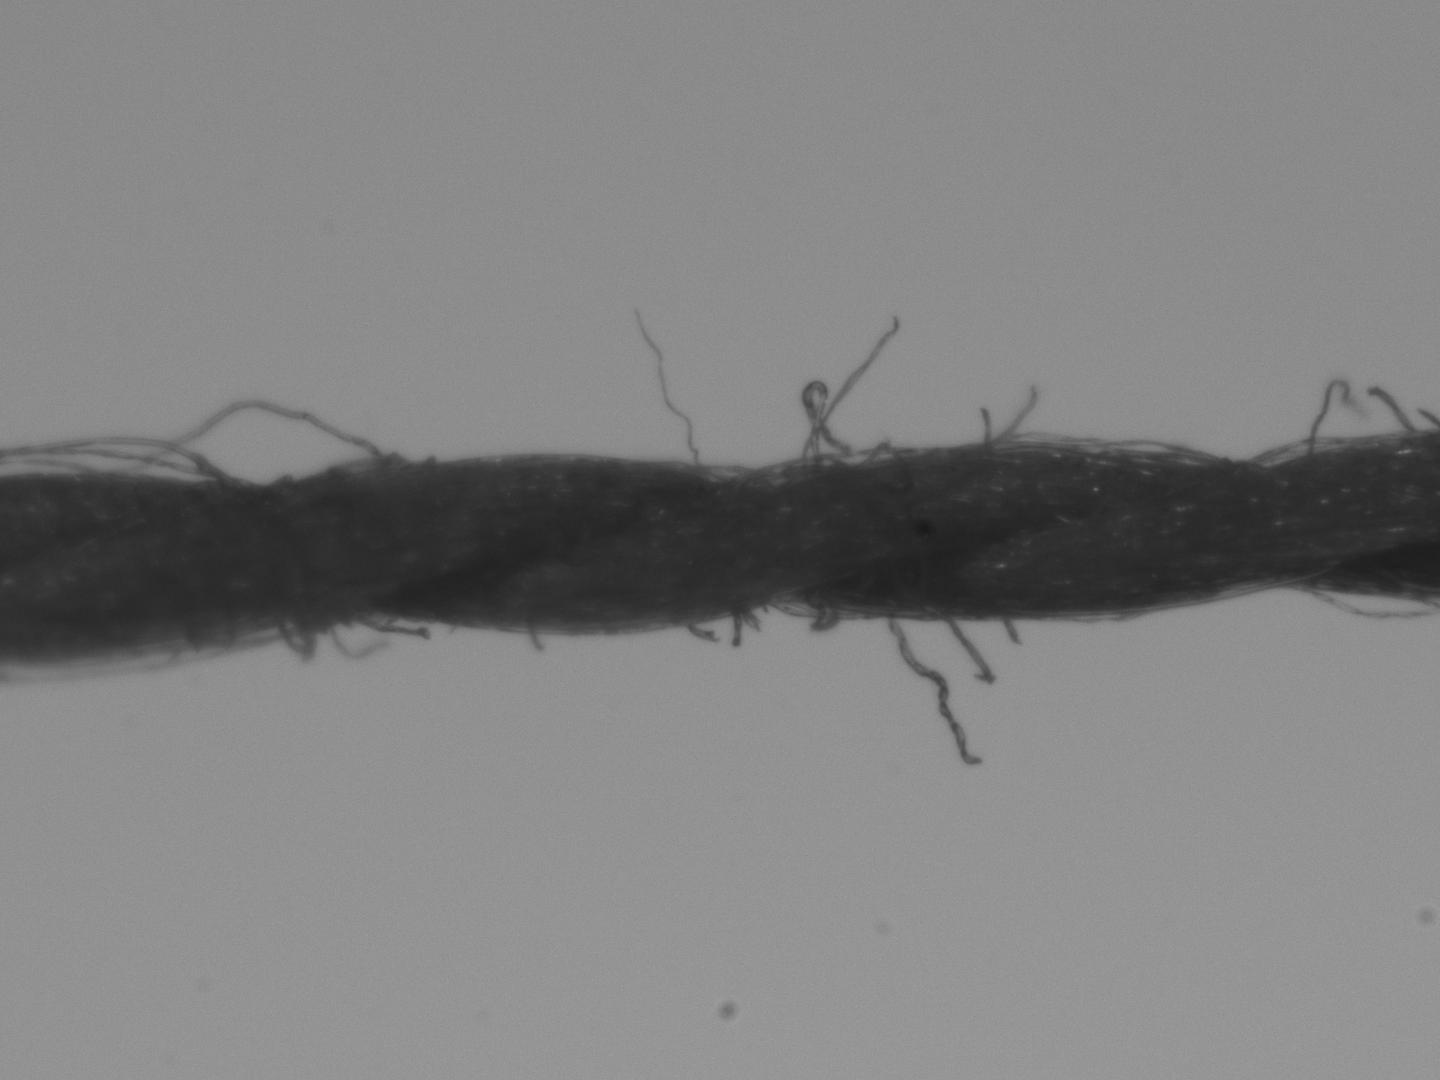loop_fiber: (109, 399, 398, 484), (130, 618, 314, 655), (1078, 436, 1227, 472), (1294, 583, 1430, 617), (1245, 433, 1396, 464), (681, 455, 757, 479), (766, 601, 865, 619), (862, 438, 906, 465)
protruding_fiber: (881, 618, 980, 771)
